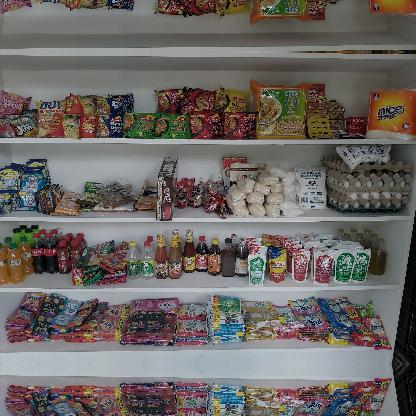Koko-Krunch: (154, 154, 180, 221)
